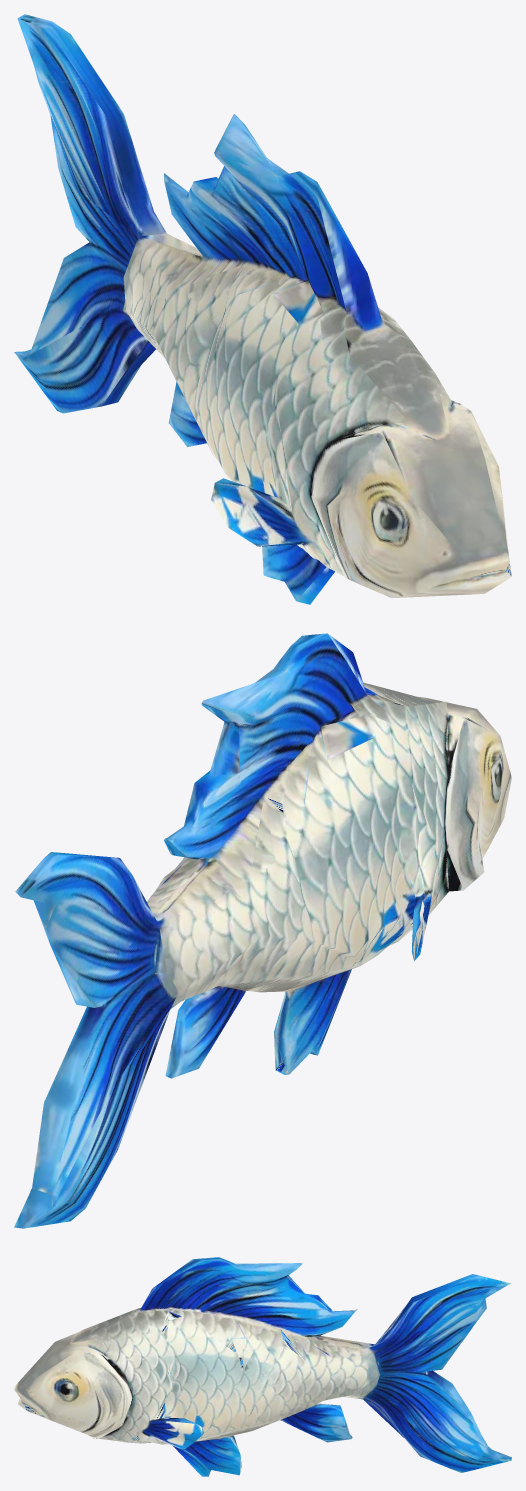
File: kodama-tetra.glb
The picture shows the model from 3 angles, top to bottom: view 1: azimuth 30°, elevation 25°; view 2: azimuth 150°, elevation 25°; view 3: azimuth 270°, elevation 25°; orthographic projection. The views are drawn at different scales.
Parts seen in each view (by area): view 1: kodama-tetra; view 2: kodama-tetra; view 3: kodama-tetra.
Part boxes in pixels (x1,y1,x2,y2): kodama-tetra: (14, 14, 511, 604); kodama-tetra: (14, 633, 511, 1228); kodama-tetra: (14, 1257, 511, 1476).
Size of the model in its own units: 0.2532 by 0.4868 by 1.
1 material, 1 textured.
